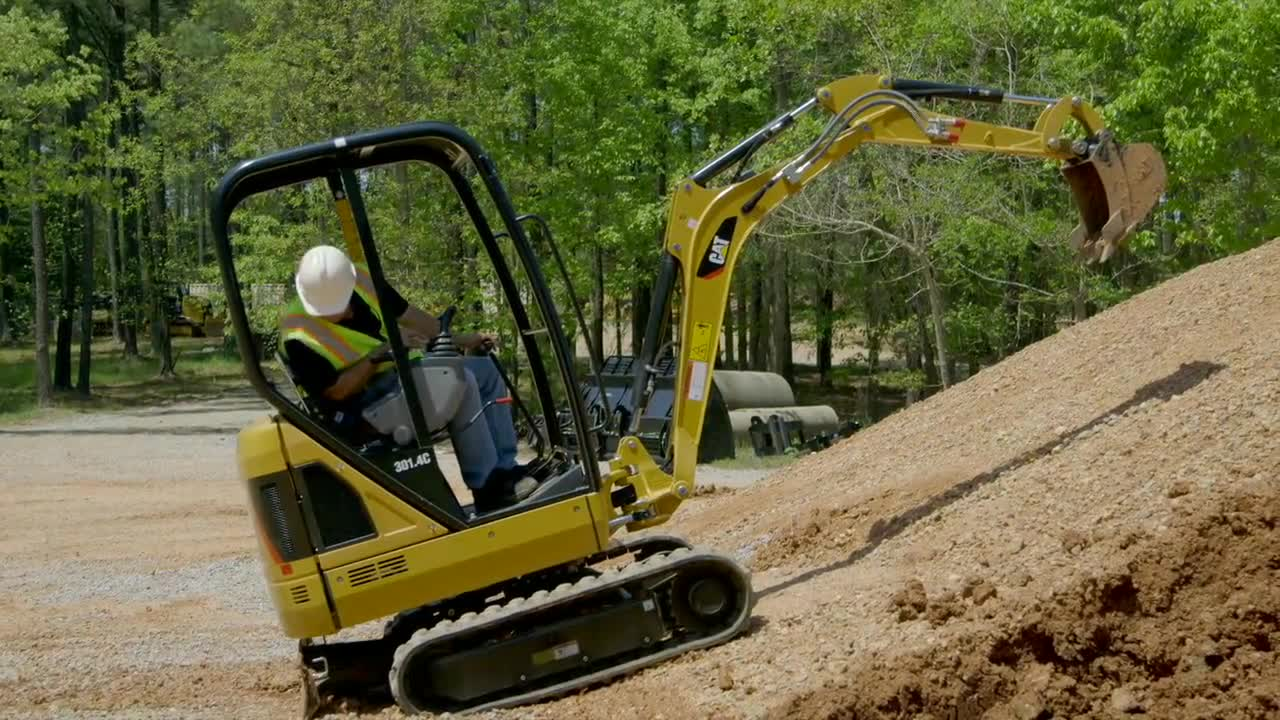attachment-bucket: (1054, 109, 1176, 270)
cabin: (201, 119, 609, 642)
forearm: (812, 67, 1071, 156)
upperarm: (666, 123, 872, 500)
wheelbase: (374, 513, 756, 720)
